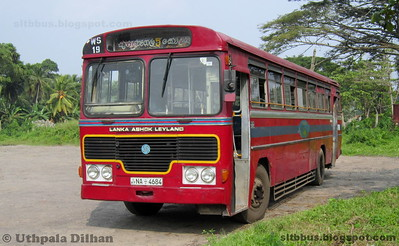bus: (78, 24, 341, 222)
